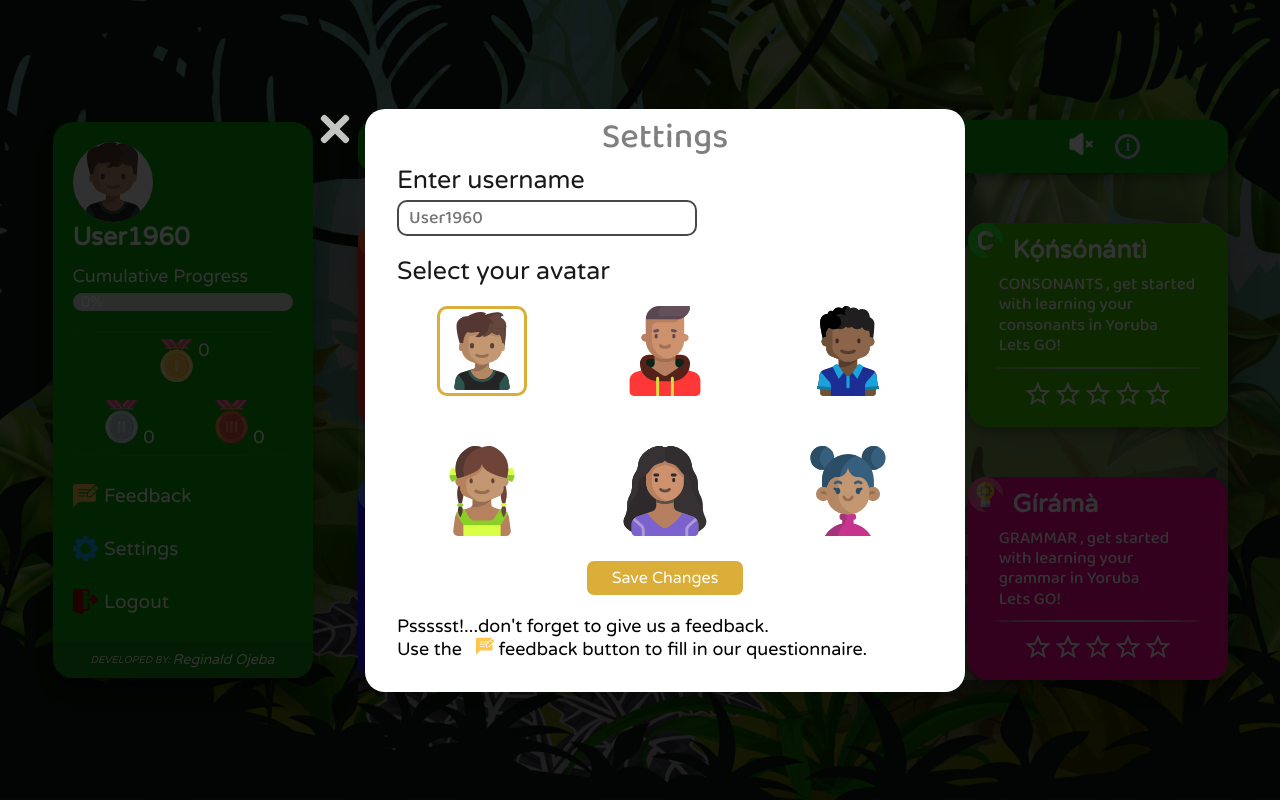
it: settings name input updates the anonymous profile
Step 1. Type "Reginald" into the field with placeholder "User1960" → {"x": 547, "y": 218}, box top-left (397, 200), bottom-right (697, 236)
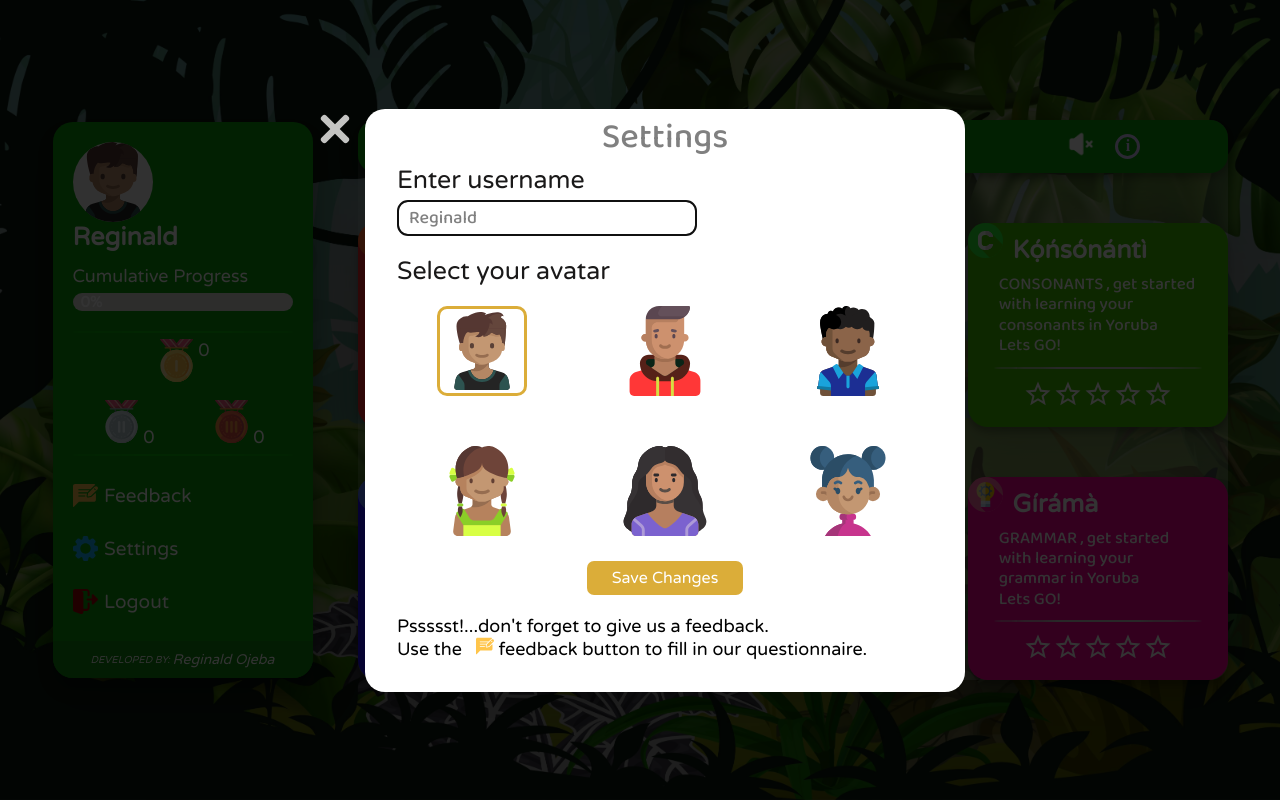
Expected: the text "Reginald" is shown, top-left (72, 222), bottom-right (178, 252)
